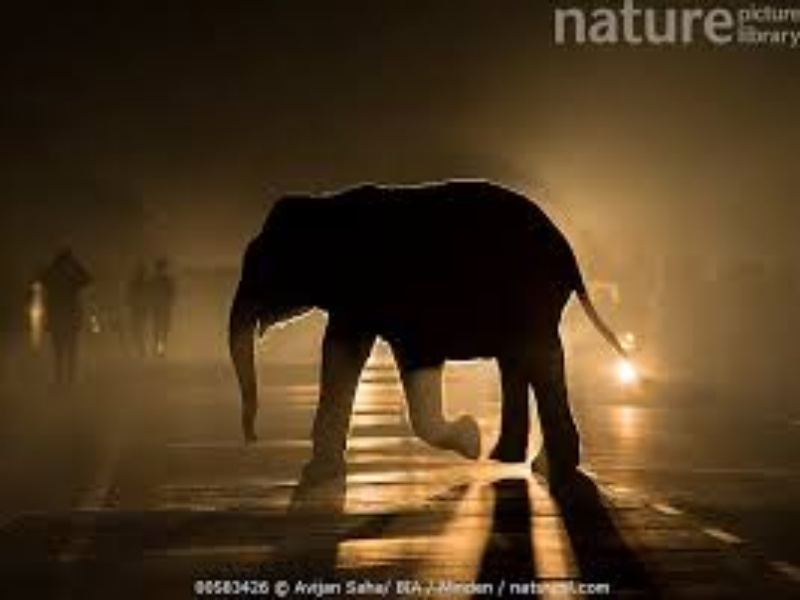elephant: (204, 123, 664, 504)
